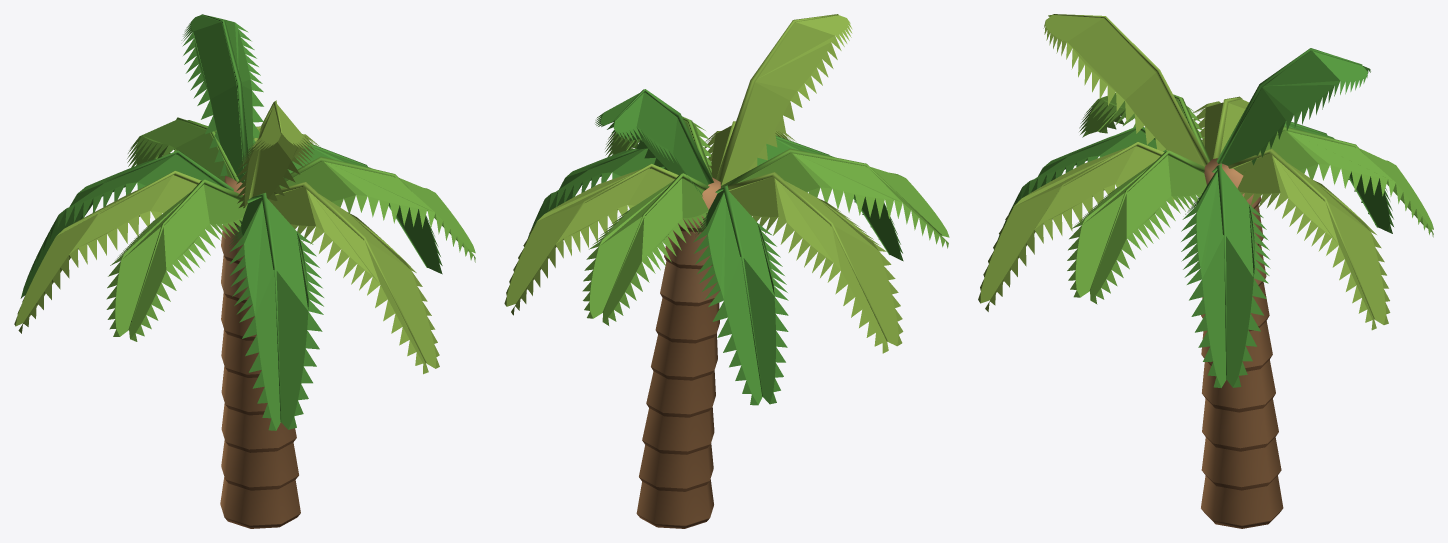
Rendered from palm2.glb.
The picture shows the model from 3 angles, left to right: view 1: azimuth 30°, elevation 25°; view 2: azimuth 150°, elevation 25°; view 3: azimuth 270°, elevation 25°; orthographic projection. The views are drawn at different scales.
Parts seen in each view (by area): view 1: Frond | 07 leaflets, Trunk | banded, Frond | 06 leaflets, Frond | 08 leaflets, Frond | 10 leaflets, Frond | 05 leaflets, Frond | 09 leaflets, Frond | 11 leaflets, Frond | 04 leaflets, Frond | 03 leaflets, Frond | 01 leaflets, Frond | 10 midrib (+5 smaller); view 2: Trunk | banded, Frond | 04 leaflets, Frond | 05 leaflets, Frond | 03 leaflets, Frond | 11 leaflets, Frond | 02 leaflets, Frond | 06 leaflets, Frond | 10 leaflets, Frond | 01 leaflets, Frond | 07 leaflets, Frond | 11 midrib, Frond | 06 midrib (+7 smaller); view 3: Trunk | banded, Frond | 01 leaflets, Frond | 09 leaflets, Frond | 02 leaflets, Frond | 11 leaflets, Frond | 08 leaflets, Frond | 10 leaflets, Frond | 03 leaflets, Frond | 07 leaflets, Frond | 05 leaflets, Frond | 06 leaflets, Frond | 04 leaflets (+5 smaller).
Part boxes in pixels (x1=…): Frond | 07 leaflets: x1=229, y1=197, x2=323, y2=430; Trunk | banded: x1=220, y1=176, x2=300, y2=528; Frond | 06 leaflets: x1=106, y1=184, x2=247, y2=341; Frond | 08 leaflets: x1=268, y1=186, x2=439, y2=374; Frond | 10 leaflets: x1=181, y1=15, x2=263, y2=182; Frond | 05 leaflets: x1=14, y1=175, x2=196, y2=333; Frond | 09 leaflets: x1=279, y1=161, x2=475, y2=262; Frond | 11 leaflets: x1=236, y1=104, x2=314, y2=208; Frond | 04 leaflets: x1=20, y1=154, x2=219, y2=298; Frond | 03 leaflets: x1=127, y1=119, x2=232, y2=181; Frond | 01 leaflets: x1=287, y1=146, x2=442, y2=274; Frond | 10 midrib: x1=201, y1=14, x2=248, y2=180; Trunk | banded: x1=636, y1=177, x2=720, y2=528; Frond | 04 leaflets: x1=693, y1=190, x2=788, y2=405; Frond | 05 leaflets: x1=729, y1=176, x2=903, y2=353; Frond | 03 leaflets: x1=582, y1=178, x2=708, y2=325; Frond | 11 leaflets: x1=721, y1=15, x2=852, y2=185; Frond | 02 leaflets: x1=504, y1=168, x2=674, y2=315; Frond | 06 leaflets: x1=739, y1=153, x2=949, y2=248; Frond | 10 leaflets: x1=595, y1=92, x2=708, y2=196; Frond | 01 leaflets: x1=528, y1=148, x2=664, y2=237; Frond | 07 leaflets: x1=757, y1=139, x2=903, y2=261; Frond | 11 midrib: x1=716, y1=14, x2=838, y2=185; Frond | 06 midrib: x1=721, y1=148, x2=941, y2=235; Trunk | banded: x1=1201, y1=158, x2=1283, y2=528; Frond | 01 leaflets: x1=1181, y1=169, x2=1270, y2=387; Frond | 09 leaflets: x1=1067, y1=155, x2=1206, y2=304; Frond | 02 leaflets: x1=1233, y1=153, x2=1390, y2=330; Frond | 11 leaflets: x1=1043, y1=14, x2=1203, y2=166; Frond | 08 leaflets: x1=978, y1=146, x2=1174, y2=311; Frond | 10 leaflets: x1=1221, y1=51, x2=1370, y2=165; Frond | 03 leaflets: x1=1259, y1=130, x2=1433, y2=237; Frond | 07 leaflets: x1=998, y1=129, x2=1166, y2=238; Frond | 05 leaflets: x1=1193, y1=99, x2=1248, y2=160; Frond | 06 leaflets: x1=1079, y1=93, x2=1204, y2=142; Frond | 04 leaflets: x1=1284, y1=123, x2=1393, y2=233.
Size of the model in its own units: 1.42 by 1.6 by 1.4.
